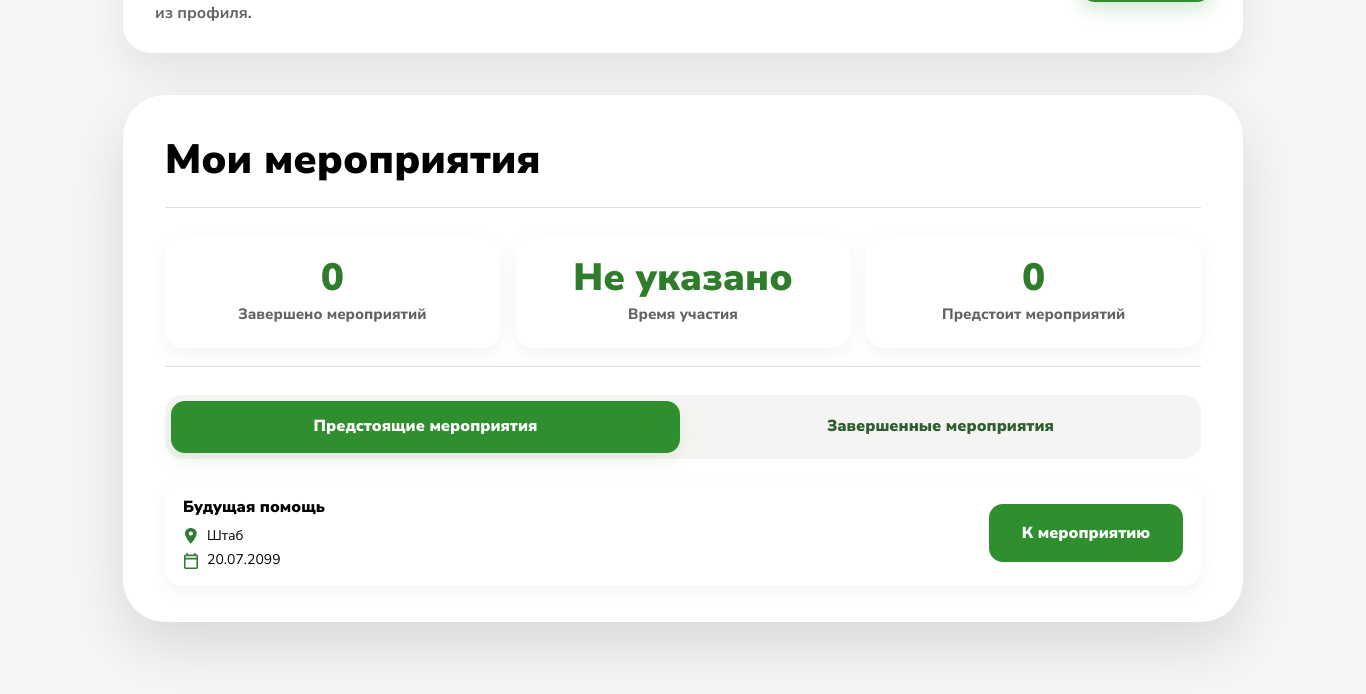
Test: ProfilePage › shows completed empty state after switching tabs
(page scrolled)
Expected: the heading "Будущая помощь" is shown, [183, 496, 325, 516]
Step 1. Click the tab "Завершенные мероприятия" → [940, 426], box [686, 400, 1195, 452]
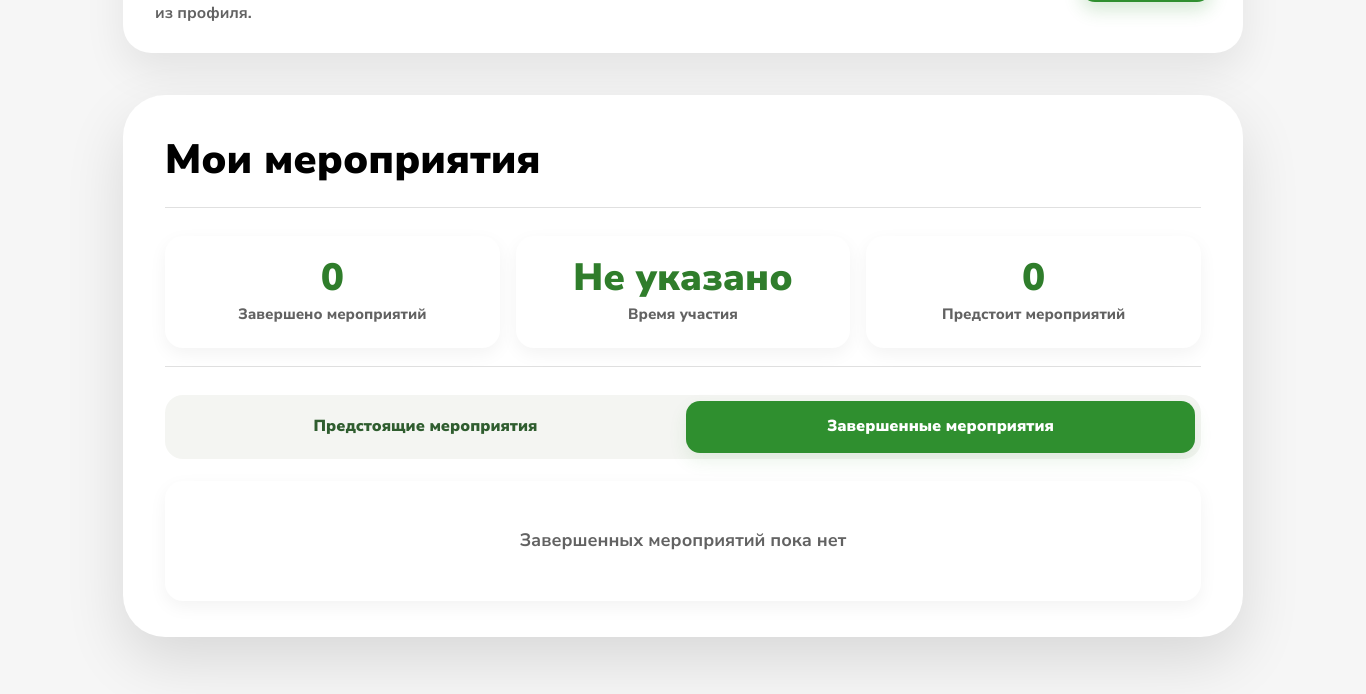
Now the text "Завершенных мероприятий пока нет" is shown, box [165, 480, 1201, 600]
